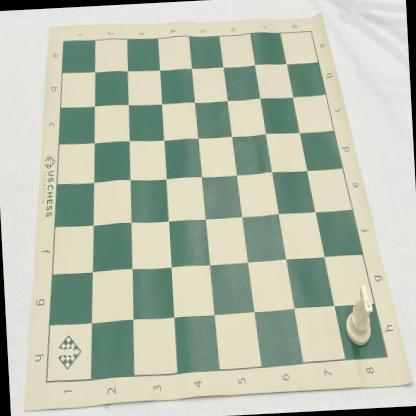knight: (343, 284, 375, 348)
